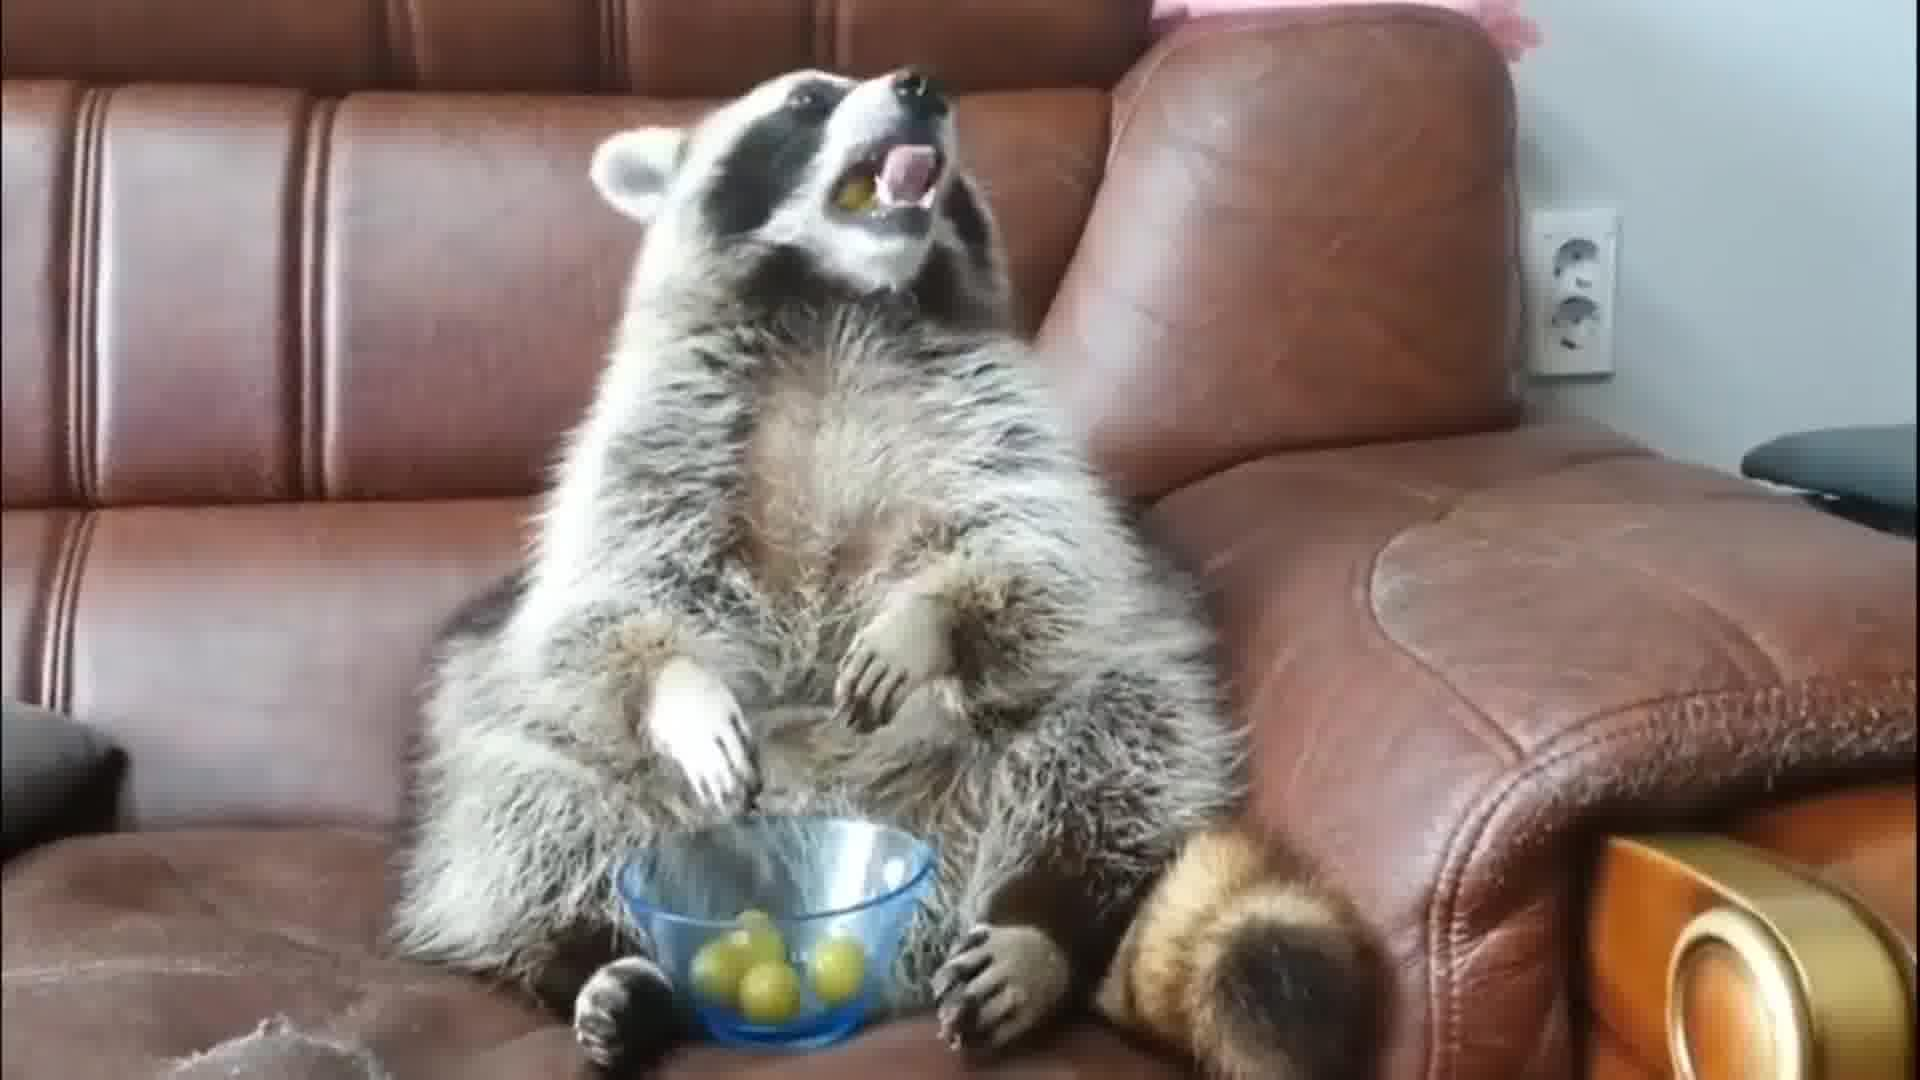raccoon: (400, 61, 1398, 1080)
